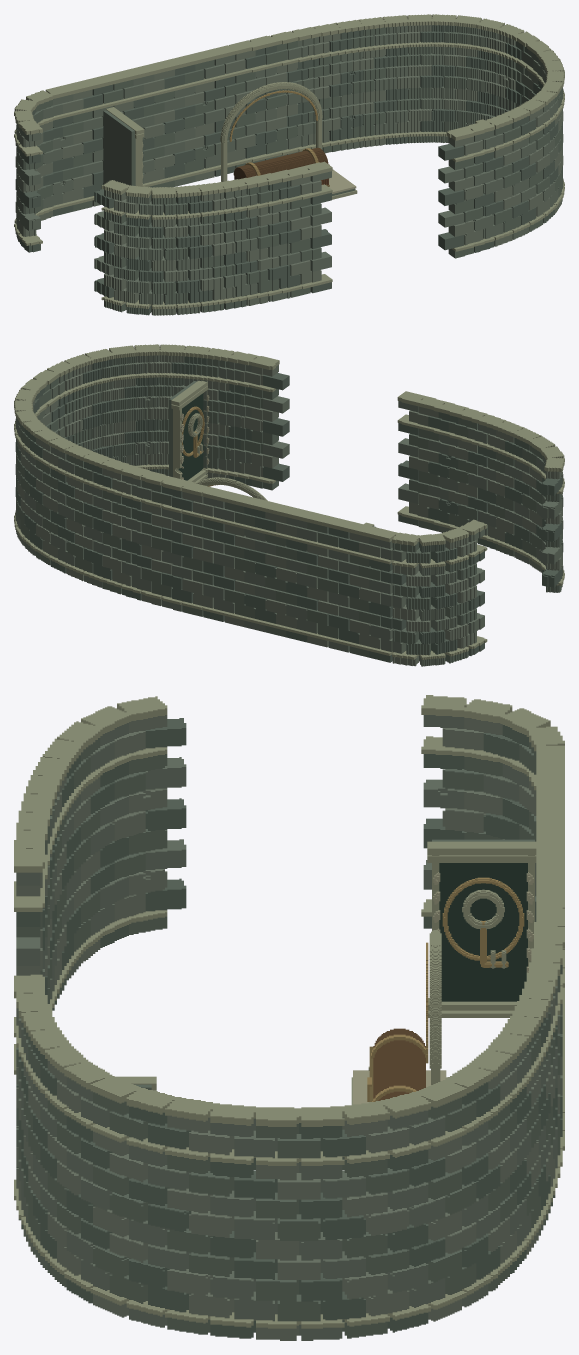
3 renders of one model, top to bottom at view 1: azimuth 30°, elevation 25°; view 2: azimuth 150°, elevation 25°; view 3: azimuth 270°, elevation 25°, orthographic. The views are drawn at different scales.
Parts seen in each view (by area): view 1: CarvedMasonry_1_-1_00, CarvedMasonry_0_-2_00, CarvedMasonry_-2_0_00, CarvedMasonry_-1_-2_00, CarvedMasonry_-2_-2_00, CarvedMasonry_-1_1_00, CarvedMasonry_-2_1_00, CarvedMasonry_0_1_00, CarvedMasonry_1_0_00, CarvedMasonry_1_1_00, FittedReliquaryApse_00, Heraldry_10_01 (+5 smaller); view 2: CarvedMasonry_-1_-2_00, CarvedMasonry_0_-2_00, CarvedMasonry_-2_-2_00, CarvedMasonry_1_-1_00, CarvedMasonry_1_0_00, CarvedMasonry_-1_1_00, CarvedMasonry_0_1_00, CarvedMasonry_-2_-1_00, CarvedMasonry_-2_0_00, CarvedMasonry_-2_1_00, CarvedMasonry_1_1_00, Heraldry_10_00 (+5 smaller); view 3: CarvedMasonry_1_-1_00, CarvedMasonry_1_0_00, CarvedMasonry_-2_0_00, CarvedMasonry_2_-1_00, CarvedMasonry_2_0_00, Heraldry_10_01, CarvedMasonry_-2_-1_00, CarvedMasonry_0_-2_00, FittedReliquaryApse_00, CarvedMasonry_1_1_00, CarvedMasonry_-1_1_00, CarvedMasonry_-2_1_00 (+5 smaller).
Part boxes in pixels (x1,y1,x2,y2): CarvedMasonry_1_-1_00: (336,14,506,150); CarvedMasonry_0_-2_00: (224,23,352,168); CarvedMasonry_-2_0_00: (101,180,212,315); CarvedMasonry_-1_-2_00: (106,45,235,187); CarvedMasonry_-2_-2_00: (26,75,123,220); CarvedMasonry_-1_1_00: (256,161,332,301); CarvedMasonry_-2_1_00: (197,175,269,312); CarvedMasonry_0_1_00: (438,120,494,258); CarvedMasonry_1_0_00: (519,60,564,231); CarvedMasonry_1_1_00: (482,106,529,246); FittedReliquaryApse_00: (220,82,357,199); Heraldry_10_01: (103,107,144,186); CarvedMasonry_-1_-2_00: (202,487,335,647); CarvedMasonry_0_-2_00: (93,458,214,616); CarvedMasonry_-2_-2_00: (318,517,430,666); CarvedMasonry_1_-1_00: (14,400,110,587); CarvedMasonry_1_0_00: (64,344,195,475); CarvedMasonry_-1_1_00: (397,391,468,532); CarvedMasonry_0_1_00: (228,351,289,490); CarvedMasonry_-2_-1_00: (419,527,476,666); CarvedMasonry_-2_0_00: (505,428,564,592); CarvedMasonry_-2_1_00: (457,407,524,556); CarvedMasonry_1_1_00: (183,345,241,478); Heraldry_10_00: (169,380,209,482); CarvedMasonry_1_-1_00: (363,998,550,1332); CarvedMasonry_1_0_00: (40,1045,215,1334); CarvedMasonry_-2_0_00: (42,696,167,980); CarvedMasonry_2_-1_00: (277,1101,389,1340); CarvedMasonry_2_0_00: (189,1103,298,1340); Heraldry_10_01: (427,839,536,1017); CarvedMasonry_-2_-1_00: (442,699,550,839); CarvedMasonry_0_-2_00: (519,907,564,1220); FittedReliquaryApse_00: (351,930,447,1104); CarvedMasonry_1_1_00: (21,1011,71,1269); CarvedMasonry_-1_1_00: (14,811,49,1074); CarvedMasonry_-2_1_00: (18,757,71,1011).
Size of the model in its own units: 25.2 by 6.18 by 13.8.
